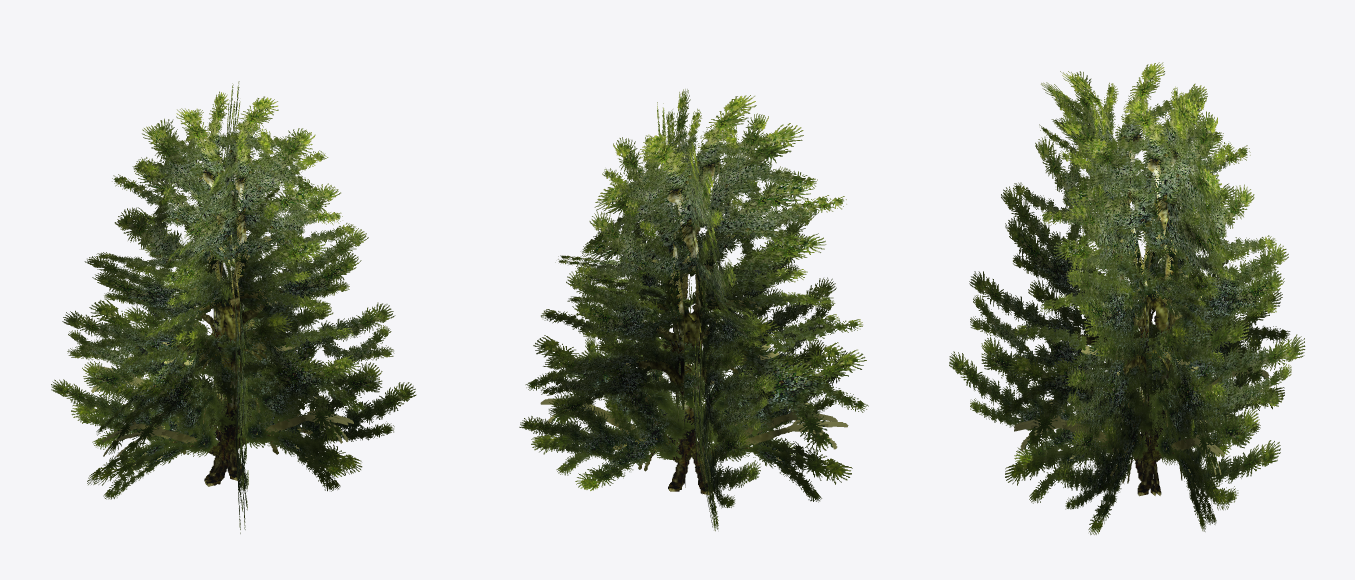
File: fir-young-1.glb
3 renders of one model, left to right at view 1: azimuth 30°, elevation 25°; view 2: azimuth 150°, elevation 25°; view 3: azimuth 270°, elevation 25°, orthographic. The views are drawn at different scales.
Parts seen in each view (by area): view 1: fir-young-1; view 2: fir-young-1; view 3: fir-young-1.
Boxes of the visible parts, left/top/right/bottom form: fir-young-1: left=51, top=81, right=416, bottom=533; fir-young-1: left=519, top=89, right=868, bottom=531; fir-young-1: left=949, top=62, right=1305, bottom=534.
Bounding box in the file's own units: 3.85 × 4.57 × 3.97.
Materials: 1 (1 with a texture image).
